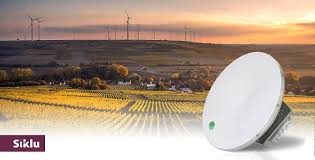ba: (188, 47, 295, 156)
